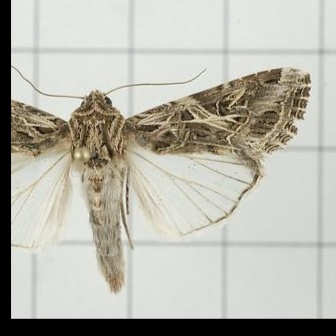Spodoptera litura: (11, 65, 312, 294)
